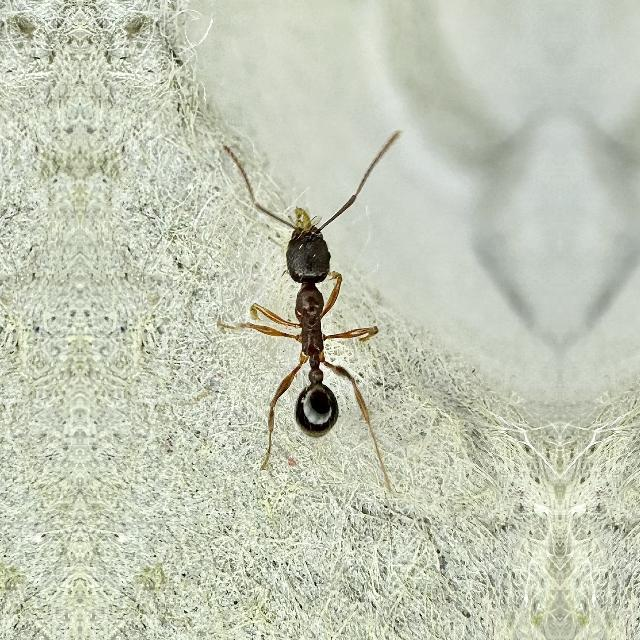Apheanogaster: (235, 155, 383, 475)
